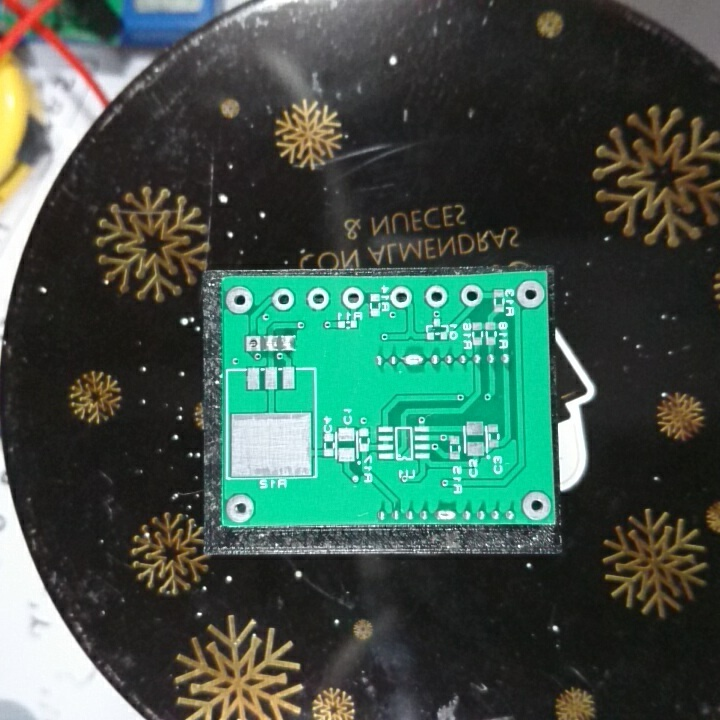F: (223, 283, 259, 317), (222, 491, 256, 526), (520, 488, 553, 523), (513, 278, 545, 311), (304, 284, 331, 315), (458, 280, 486, 308), (424, 282, 450, 312), (268, 285, 296, 312), (390, 283, 413, 310), (242, 332, 264, 358), (340, 285, 362, 310)
P: (399, 350, 425, 372), (432, 504, 458, 524)
